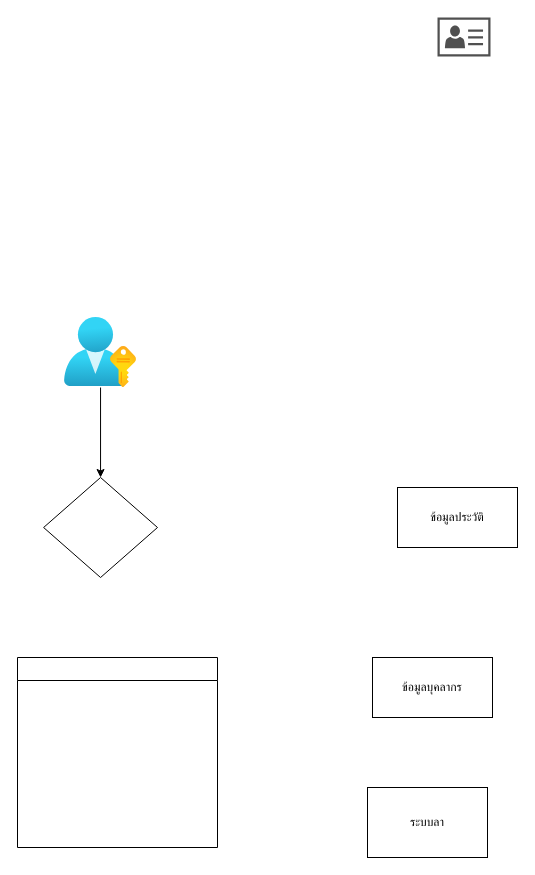
The diagram is 535 pixels wide and 875 high, and some of its shapes have lost their labels. Each missing label, with the centre of its shape:
Authentication: (100,527)
บริการงานบุคคล: (117,752)
